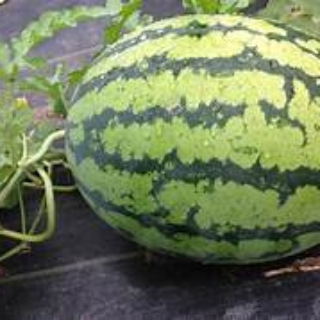dua_hau: (62, 13, 320, 262)
